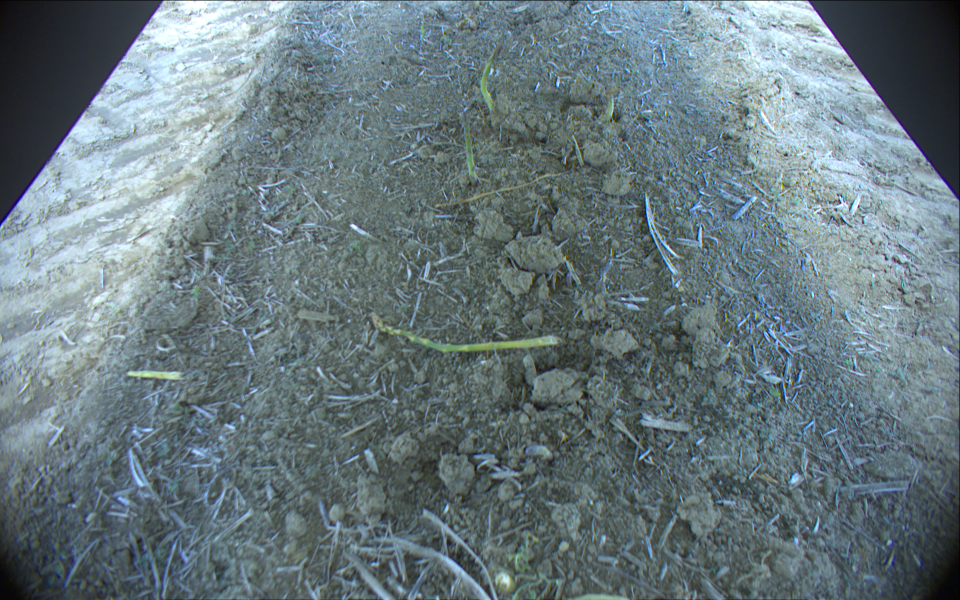aspa: (371, 313, 560, 351), (458, 105, 478, 184), (479, 44, 502, 111), (127, 369, 188, 380), (603, 83, 616, 120)
